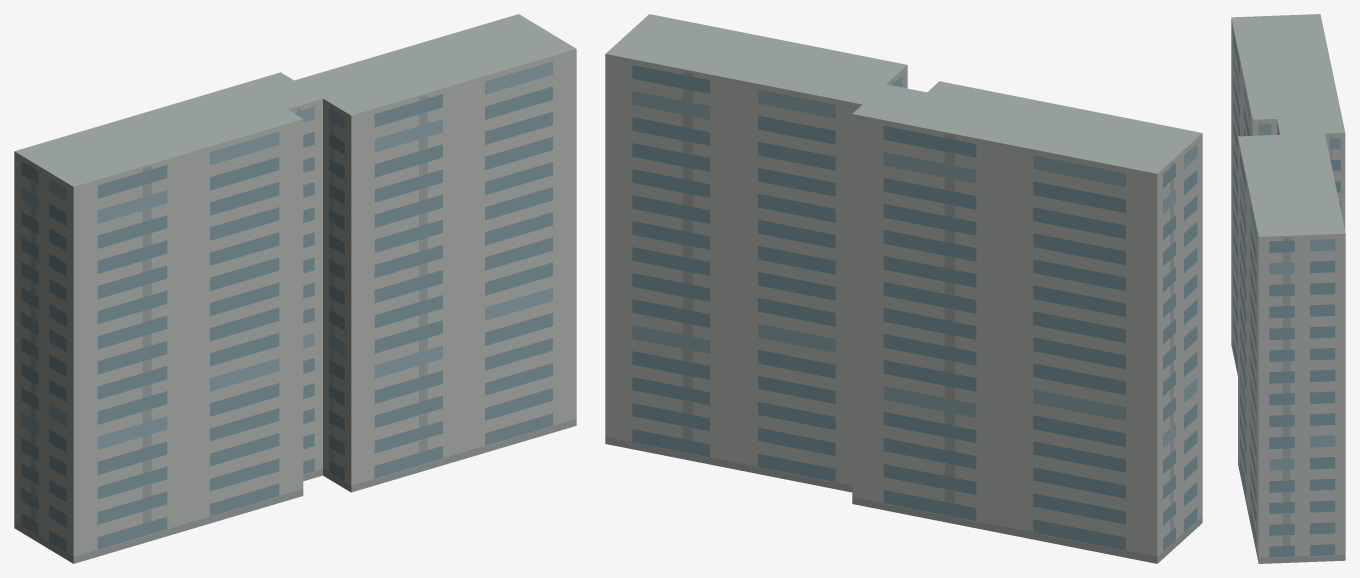
The model's file is residential-66c51821-16ae-413a-8e1d-7525573ccfd0.glb.
3 renders of one model, left to right at view 1: azimuth 30°, elevation 25°; view 2: azimuth 150°, elevation 25°; view 3: azimuth 270°, elevation 25°, orthographic. The views are drawn at different scales.
Visible parts, largest first — view 1: residential-66c51821-16ae-413a-8e1d-7525573ccfd0.tmp; view 2: residential-66c51821-16ae-413a-8e1d-7525573ccfd0.tmp; view 3: residential-66c51821-16ae-413a-8e1d-7525573ccfd0.tmp.
Boxes of the visible parts, bbox=[...] form: residential-66c51821-16ae-413a-8e1d-7525573ccfd0.tmp: bbox=[14, 14, 576, 563]; residential-66c51821-16ae-413a-8e1d-7525573ccfd0.tmp: bbox=[605, 14, 1202, 563]; residential-66c51821-16ae-413a-8e1d-7525573ccfd0.tmp: bbox=[1231, 14, 1345, 563].
Size of the model in its own units: 66.89 by 45.75 by 14.52.
